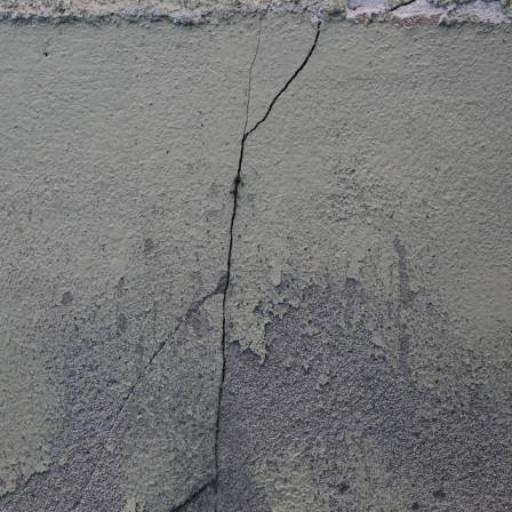spalling: (176, 26, 330, 510)
